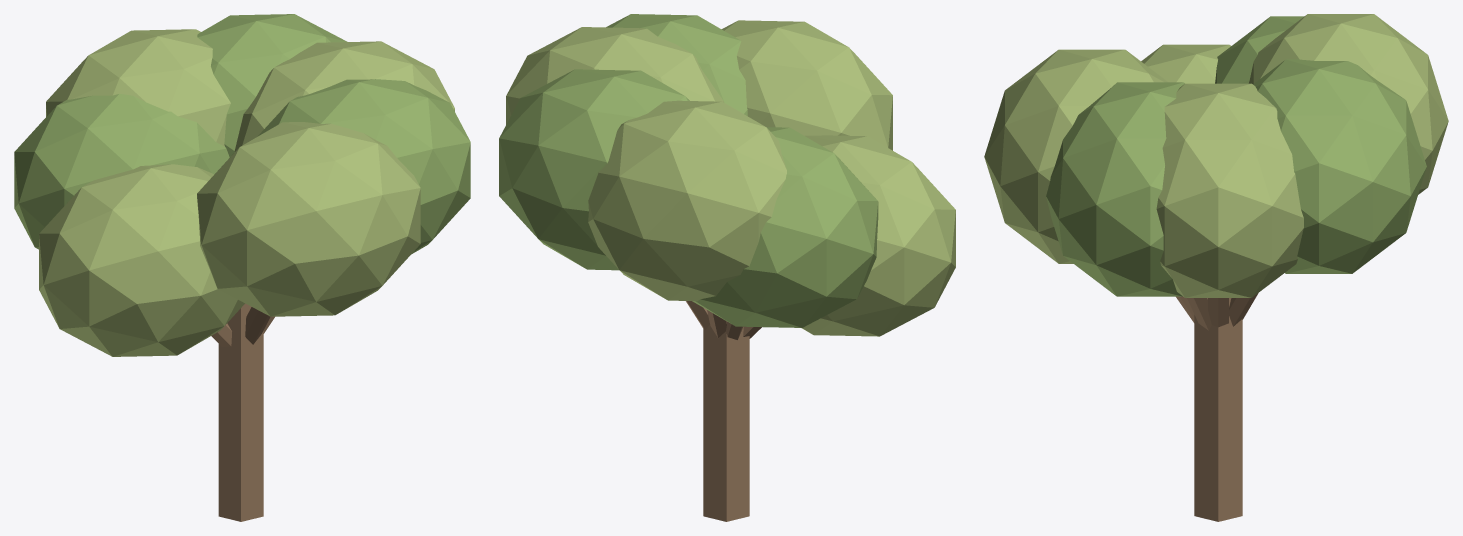
Rendered from tree_mango.glb.
The picture shows the model from 3 angles, left to right: view 1: azimuth 30°, elevation 25°; view 2: azimuth 150°, elevation 25°; view 3: azimuth 270°, elevation 25°; orthographic projection. The views are drawn at different scales.
Parts seen in each view (by area): view 1: part_6, part_10, part_4, part_12, part_14, part_0, part_2, part_8, part_5; view 2: part_14, part_4, part_8, part_10, part_6, part_0, part_2, part_12; view 3: part_2, part_8, part_12, part_6, part_14, part_0, part_10, part_4, part_1.
Part boxes in pixels (box(x1,y1,x2,y2)): part_6: box(197, 122, 420, 316); part_10: box(39, 164, 244, 356); part_4: box(14, 93, 229, 249); part_12: box(257, 79, 470, 254); part_14: box(46, 29, 230, 146); part_0: box(218, 303, 263, 521); part_2: box(234, 41, 454, 151); part_8: box(197, 14, 347, 157); part_5: box(245, 307, 270, 344); part_14: box(588, 100, 786, 301); part_4: box(692, 127, 878, 327); part_8: box(499, 69, 689, 270); part_10: box(801, 135, 955, 336); part_6: box(721, 20, 892, 150); part_0: box(703, 324, 749, 521); part_2: box(506, 27, 723, 124); part_12: box(606, 14, 747, 115); part_2: box(1156, 83, 1303, 297); part_8: box(1253, 59, 1426, 273); part_12: box(1046, 82, 1184, 296); part_6: box(984, 49, 1167, 263); part_14: box(1248, 14, 1448, 194); part_0: box(1194, 298, 1242, 521); part_10: box(1141, 44, 1230, 83); part_4: box(1215, 16, 1303, 83); part_1: box(1208, 298, 1228, 327).
Size of the model in its own units: 4.08 by 4.12 by 3.66.
